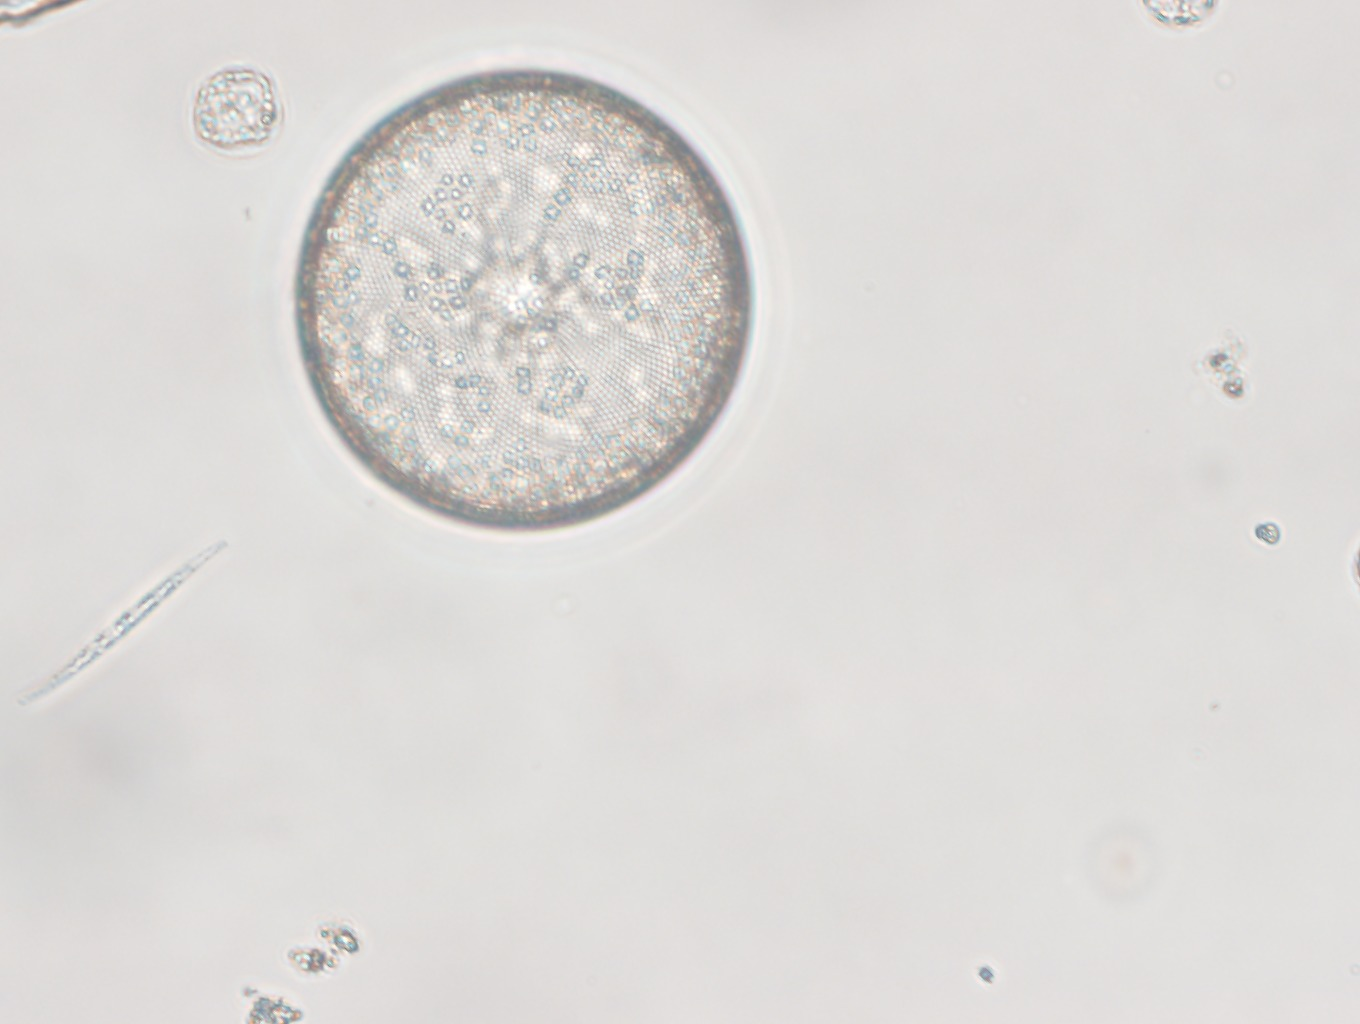coscinodiscus: (292, 65, 754, 530)
pleurosigma pelagicum: (17, 539, 226, 710)
